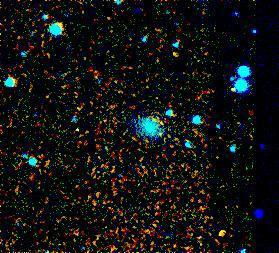star: (212, 71, 242, 101)
